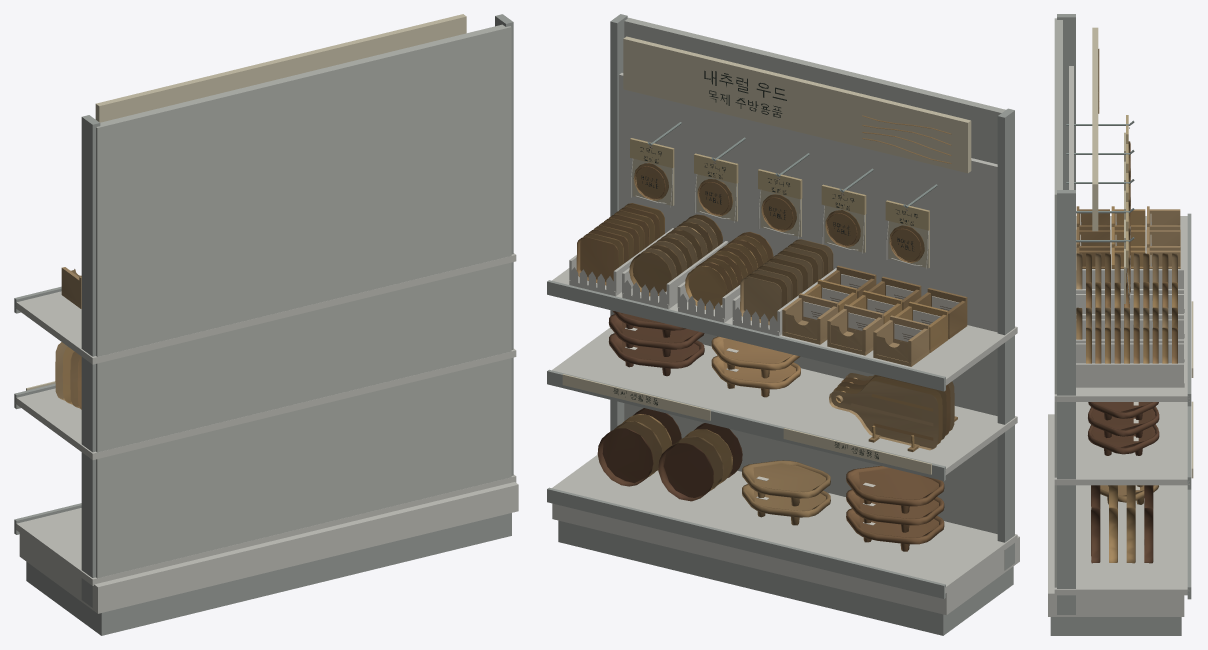
The model's file is wood.glb.
3 renders of one model, left to right at view 1: azimuth 30°, elevation 25°; view 2: azimuth 150°, elevation 25°; view 3: azimuth 270°, elevation 25°, orthographic. The views are drawn at different scales.
Visible parts, largest first — view 1: Daiso_wood; view 2: Daiso_wood; view 3: Daiso_wood.
Boxes of the visible parts, left/top/right/bottom form: Daiso_wood: left=14, top=14, right=518, bottom=635; Daiso_wood: left=547, top=14, right=1019, bottom=635; Daiso_wood: left=1048, top=14, right=1193, bottom=635.
Size of the model in its own units: 1.83 by 2.11 by 0.6266.
